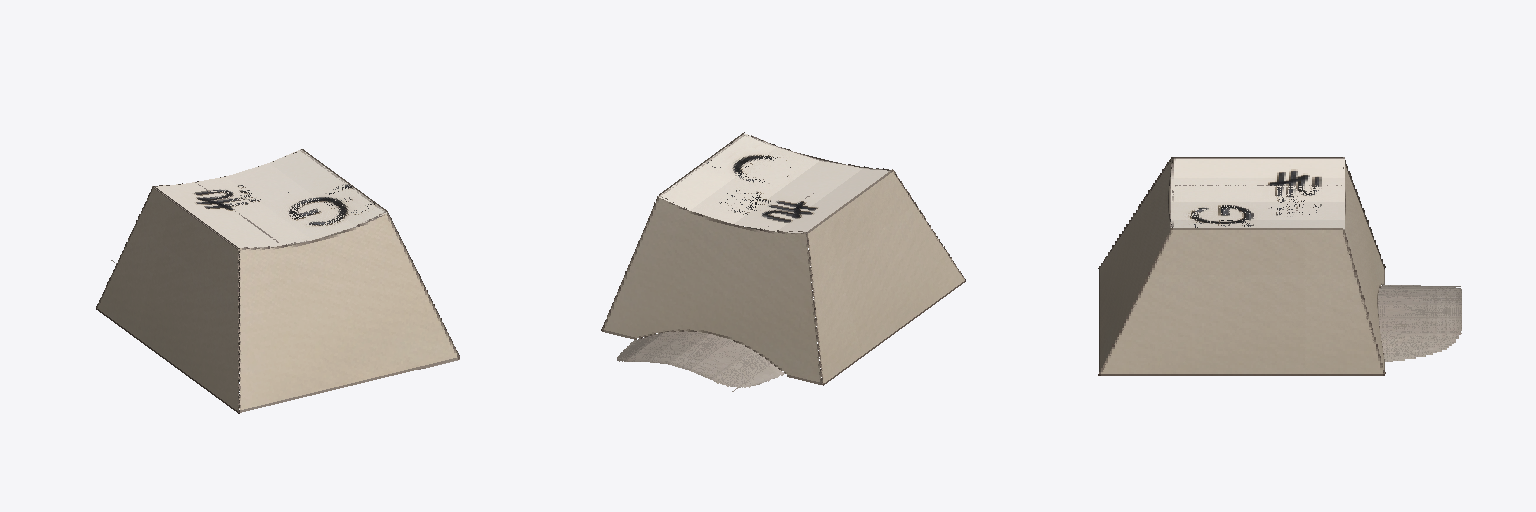
3 views of the same model, side by side, from view 1: azimuth 30°, elevation 25°; view 2: azimuth 150°, elevation 25°; view 3: azimuth 270°, elevation 25° (orthographic).
Visible parts, largest first — view 1: Back, Left, cube; view 2: Front, Left, cube; view 3: Right, cube, Front, Back, Left.
Boxes of the visible parts, box(x1,y1,x2,y2) form: Back: box(237, 213, 459, 412); Left: box(96, 186, 239, 413); cube: box(152, 149, 386, 248); Front: box(602, 196, 822, 391); Left: box(807, 169, 965, 385); cube: box(658, 133, 891, 233); Right: box(1098, 228, 1385, 375); cube: box(1170, 157, 1344, 229); Front: box(1343, 165, 1461, 369); Back: box(1099, 158, 1172, 371); Left: box(1098, 157, 1385, 268).
Bounding box in the file's own units: 1.32 × 0.7308 × 1.81.
Materials: 1 (1 with a texture image).